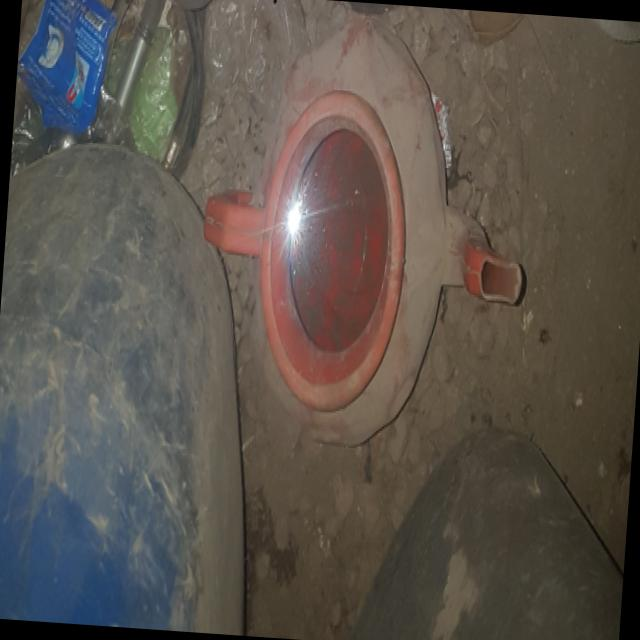electronic: (17, 0, 118, 137)
general: (188, 3, 542, 459), (0, 132, 278, 635)
